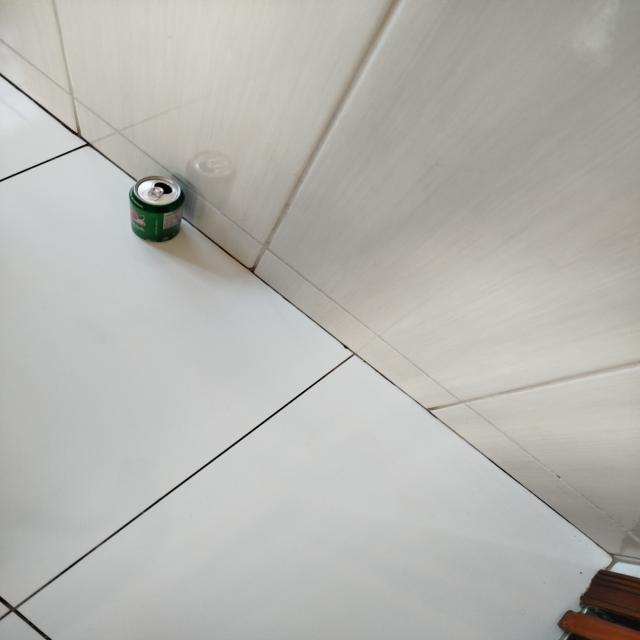Guarana: (128, 174, 188, 243)
